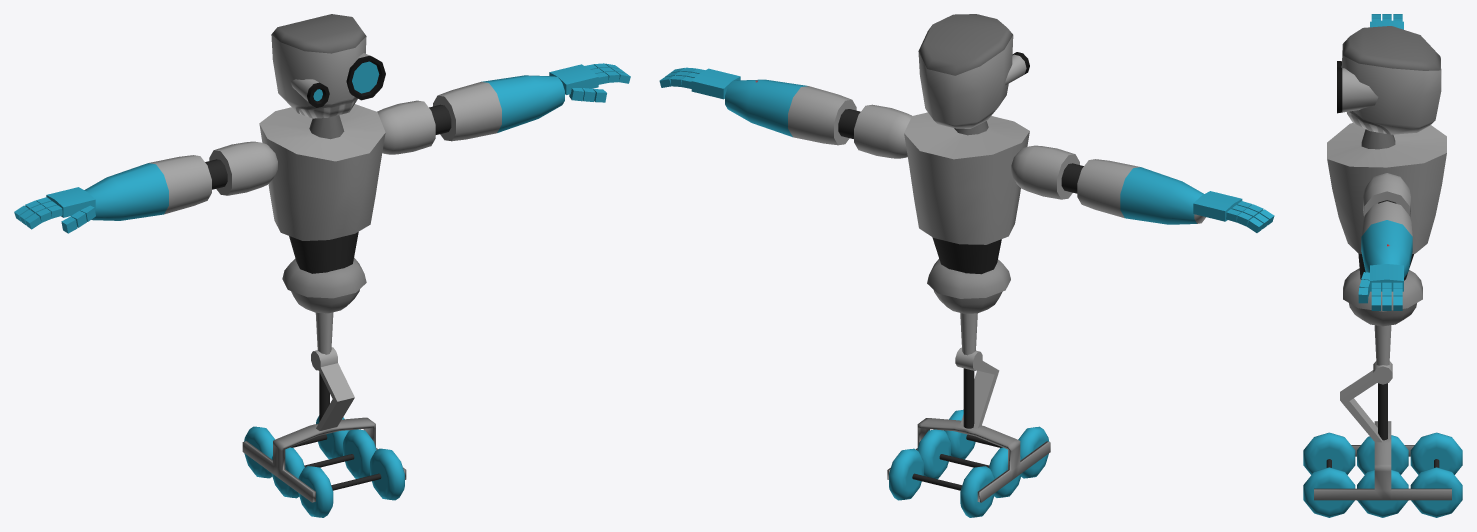
File: Blue_Robot.fbx
3 views of the same model, side by side, from view 1: azimuth 30°, elevation 25°; view 2: azimuth 150°, elevation 25°; view 3: azimuth 270°, elevation 25° (orthographic).
Visible parts, largest first — view 1: Torso, Head, Right_Arm, Left_Arm, Hips, Front_Wheel, Wheels, Right_Hand, Middle_Wheel, Left_Hand, Knee, Back_Wheel; view 2: Torso, Head, Right_Arm, Left_Arm, Hips, Wheels, Back_Wheel, Middle_Wheel, Right_Hand, Front_Wheel, Left_Hand, Knee; view 3: Head, Torso, Left_Arm, Wheels, Back_Wheel, Front_Wheel, Hips, Middle_Wheel, Left_Hand, Knee, Right_Hand.
Part boxes in pixels (left/top/right/bottom): Torso: left=259, top=104, right=385, bottom=273; Head: left=271, top=14, right=385, bottom=118; Right_Arm: left=84, top=141, right=277, bottom=220; Left_Arm: left=377, top=75, right=564, bottom=154; Hips: left=282, top=257, right=366, bottom=354; Front_Wheel: left=298, top=448, right=404, bottom=517; Wheels: left=242, top=372, right=406, bottom=502; Right_Hand: left=14, top=187, right=95, bottom=233; Middle_Wheel: left=271, top=429, right=376, bottom=498; Left_Hand: left=549, top=63, right=630, bottom=102; Knee: left=311, top=347, right=354, bottom=430; Back_Wheel: left=244, top=415, right=349, bottom=478; Torso: left=904, top=112, right=1029, bottom=274; Head: left=918, top=14, right=1029, bottom=128; Right_Arm: left=1011, top=145, right=1205, bottom=224; Left_Arm: left=725, top=79, right=911, bottom=158; Hips: left=927, top=258, right=1010, bottom=355; Wheels: left=887, top=368, right=1050, bottom=502; Back_Wheel: left=889, top=448, right=994, bottom=517; Middle_Wheel: left=917, top=429, right=1022, bottom=497; Right_Hand: left=1193, top=191, right=1274, bottom=232; Front_Wheel: left=944, top=409, right=1049, bottom=478; Left_Hand: left=659, top=67, right=740, bottom=99; Knee: left=955, top=347, right=999, bottom=428; Head: left=1337, top=26, right=1441, bottom=134; Torso: left=1327, top=123, right=1446, bottom=280; Left_Arm: left=1361, top=173, right=1412, bottom=277; Wheels: left=1314, top=383, right=1451, bottom=500; Back_Wheel: left=1410, top=432, right=1462, bottom=517; Front_Wheel: left=1303, top=432, right=1355, bottom=517; Hips: left=1343, top=268, right=1422, bottom=365; Middle_Wheel: left=1357, top=435, right=1408, bottom=517; Left_Hand: left=1358, top=264, right=1403, bottom=310; Knee: left=1340, top=361, right=1392, bottom=442; Right_Hand: left=1370, top=14, right=1403, bottom=29.
Bounding box in the file's own units: 215 × 158 × 49.59.
